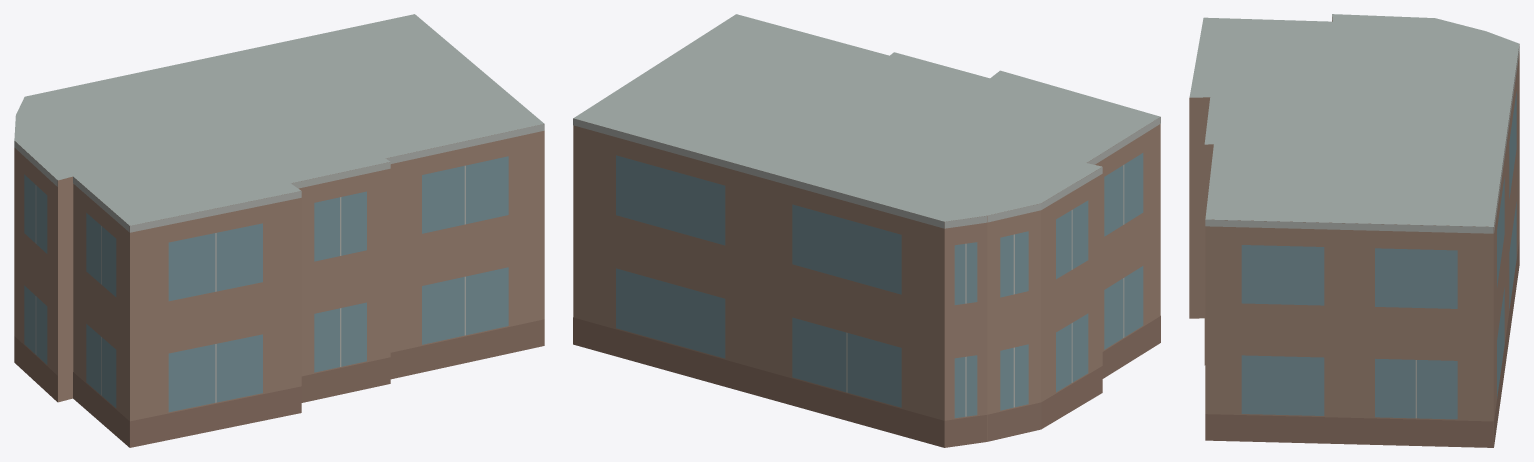
File: survey-upis-32842556.glb
3 renders of one model, left to right at view 1: azimuth 30°, elevation 25°; view 2: azimuth 150°, elevation 25°; view 3: azimuth 270°, elevation 25°, orthographic. The views are drawn at different scales.
Parts seen in each view (by area): view 1: survey-upis-32842556.tmp; view 2: survey-upis-32842556.tmp; view 3: survey-upis-32842556.tmp.
Part boxes in pixels (x1,y1,x2,y2): survey-upis-32842556.tmp: (14,14,544,447); survey-upis-32842556.tmp: (573,14,1160,447); survey-upis-32842556.tmp: (1189,14,1519,447).
Bounding box in the file's own units: 16.33 × 7.9 × 10.71.
